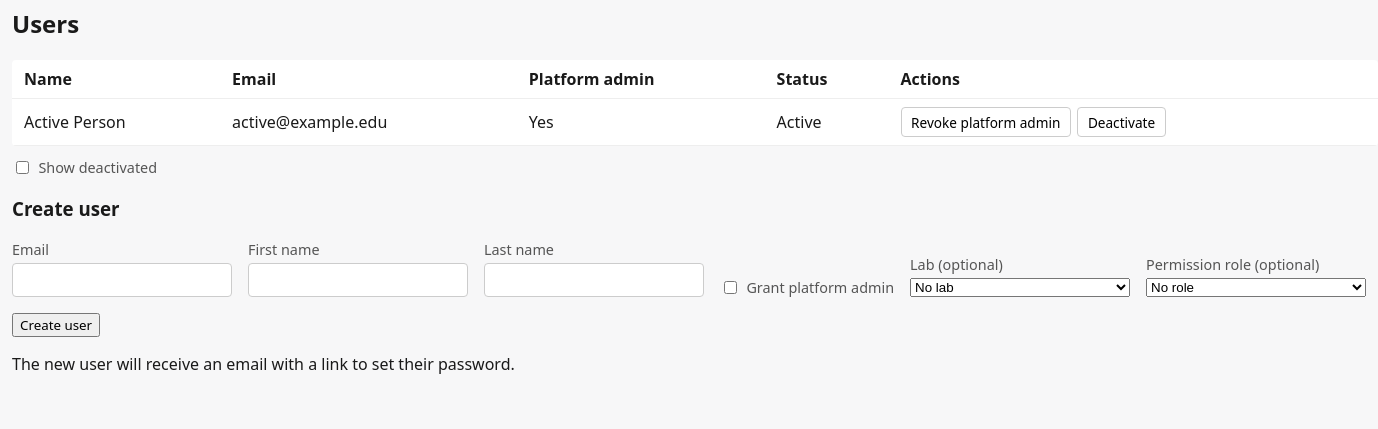
Test: AdminUsers deactivate action › shows a notice when deactivation fails
The image size is (1378, 429).
Click the button "Deactivate" at (1122, 122), box [1077,107,1166,137]
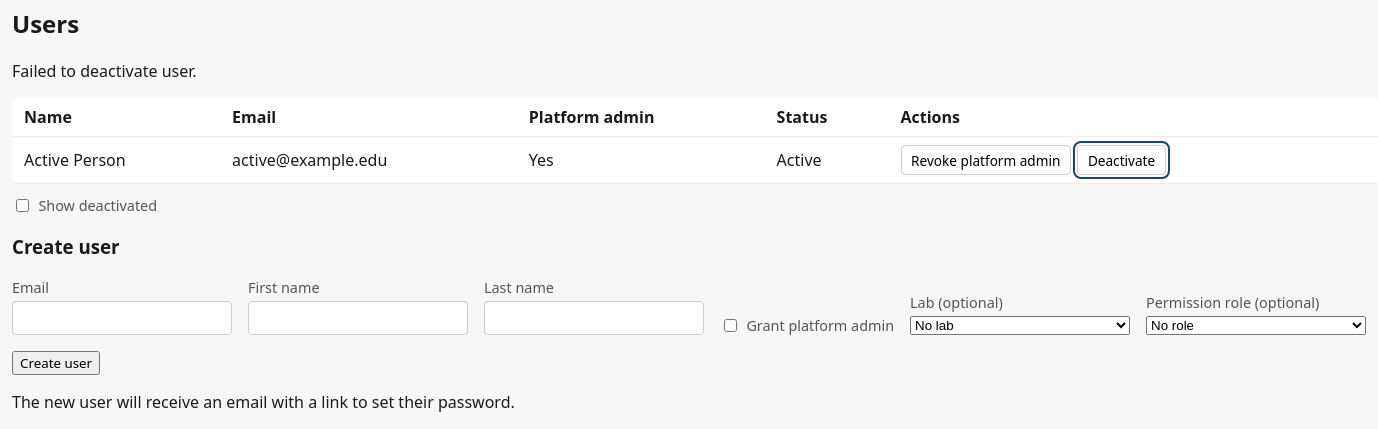
Expected: the message reads "Failed to deactivate user.", [12,60,197,82]
